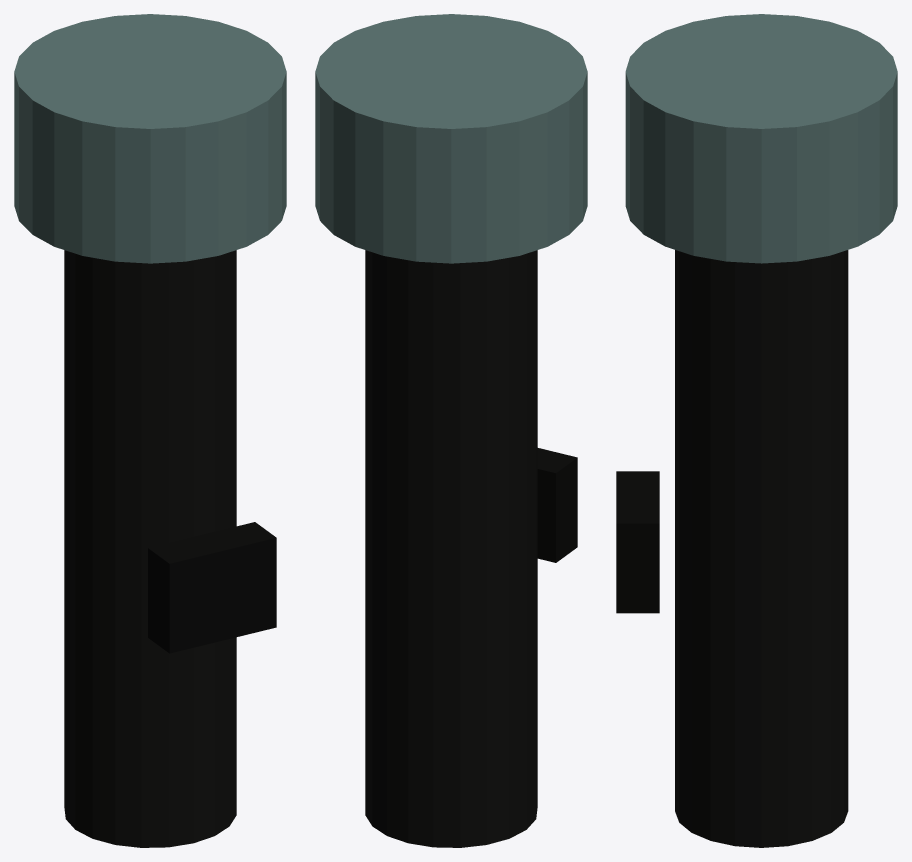
File: flashlight.obj
3 renders of one model, left to right at view 1: azimuth 30°, elevation 25°; view 2: azimuth 150°, elevation 25°; view 3: azimuth 270°, elevation 25°, orthographic.
Visible parts, largest first — view 1: flashlight; view 2: flashlight; view 3: flashlight.
Boxes of the visible parts, x1,y1,x2,y2 form: flashlight: (14,14,286,847); flashlight: (315,14,587,847); flashlight: (616,14,897,847).
Bounding box in the file's own units: 0.22 × 0.66 × 0.2275.
